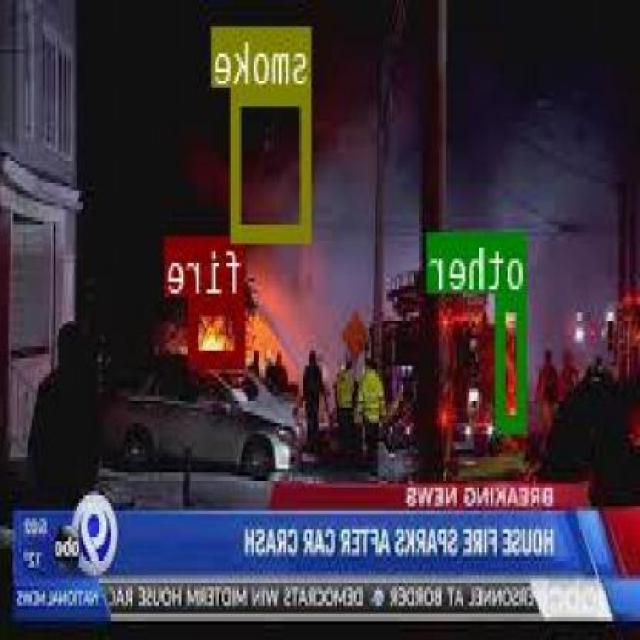Fire: (174, 278, 264, 370)
Smoke: (66, 0, 356, 317)
